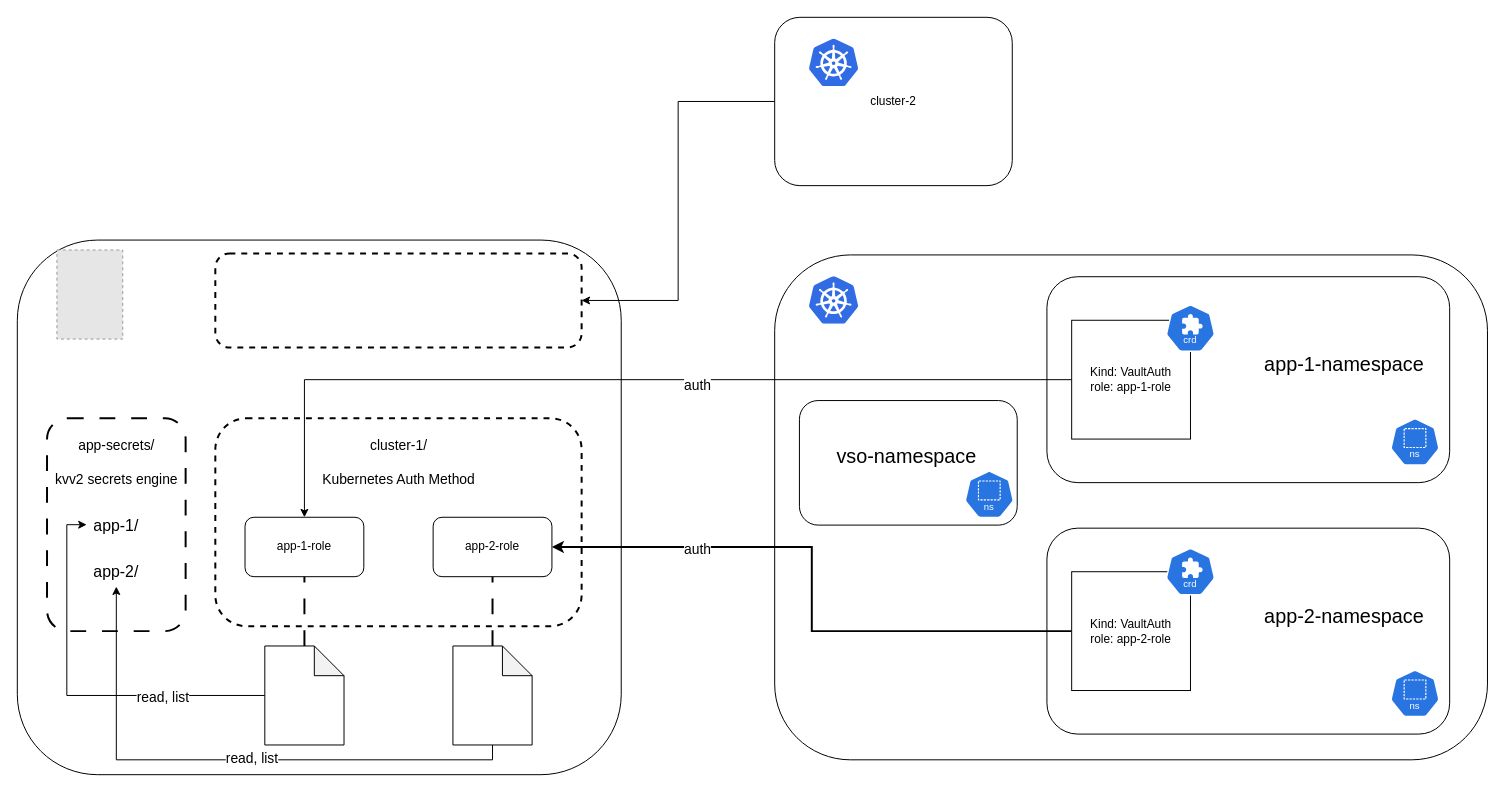
Image size: 1505x792. Some labels were removed from this diagram. Grey dashed boxes stand in for pictures. Here are the shapes that lost their labels. From the top down, the centre of each, then its label:
the point at 398,300: cluster-2/ Kubernetes Auth Method
the point at 304,695: app-1-secret-read-policy
the point at 492,695: app-2-secret-read-policy
